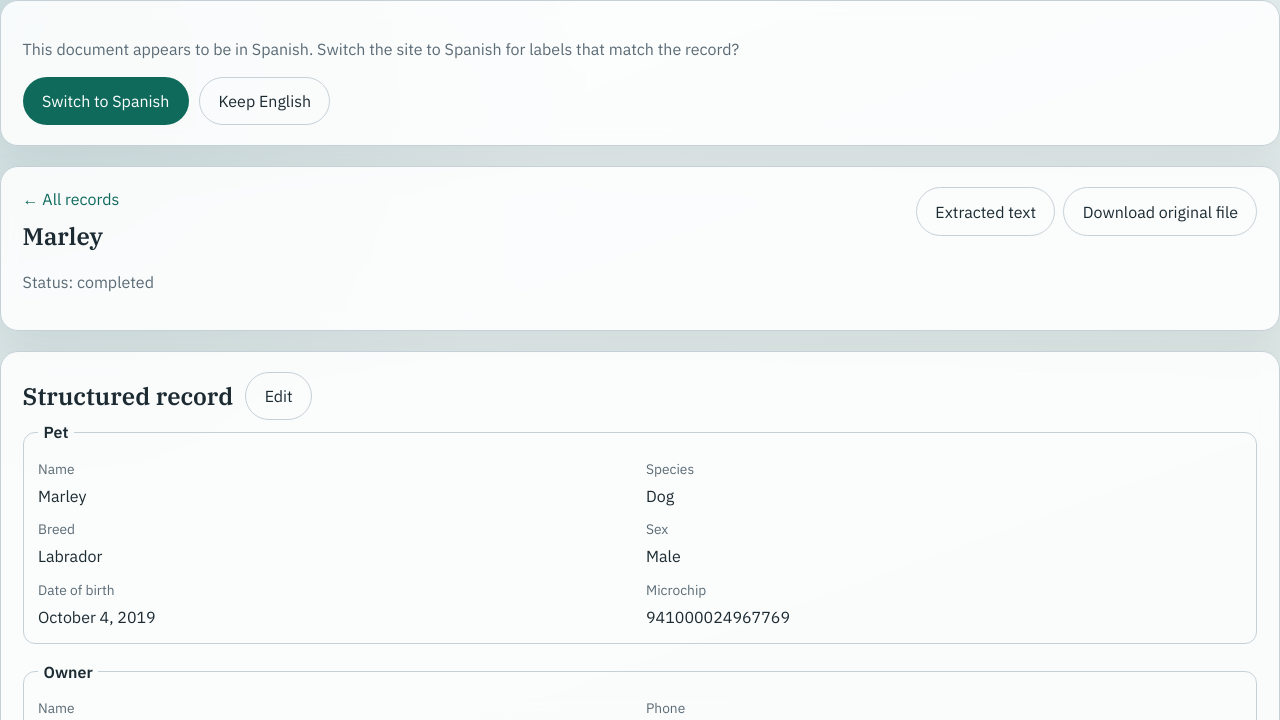
RecordPage › keeps structured fields read-only until Edit is clicked
The width and height of the screenshot is (1280, 720).
Expected: the text "Marley" is shown, [38,486,86,506]
Expected: the text "Dog" is shown, [646,486,674,506]
Click the button "Edit".
click(279, 396)  # box [245,372,312,420]
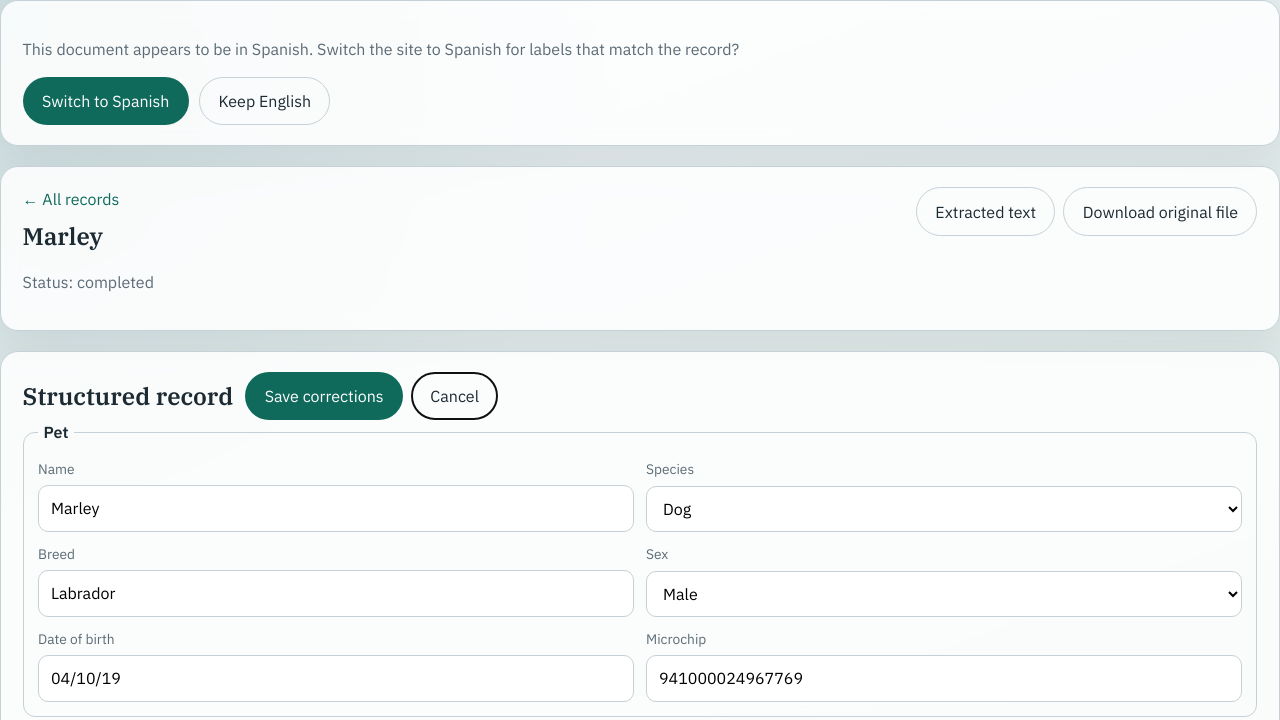
Expected: the button "Save corrections" is shown, [245,372,403,420]
Expected: the button "Cancel" is shown, [411,372,498,420]
Expected: the field labelled "Name" is shown, [38,485,634,532]
